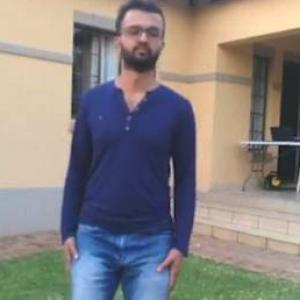follow: (69, 16, 189, 299)
